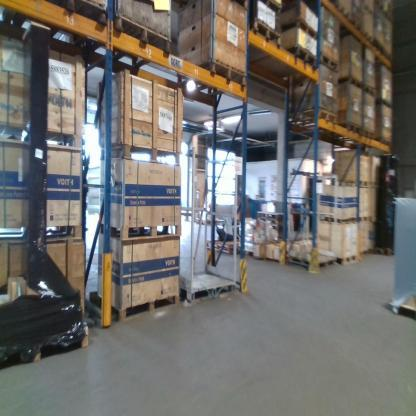pallets: (33, 0, 180, 59), (245, 13, 318, 76), (292, 106, 393, 147), (0, 326, 89, 371), (96, 213, 187, 255), (287, 245, 374, 283), (101, 137, 189, 171), (108, 290, 179, 326), (335, 71, 402, 107), (189, 60, 253, 96), (178, 273, 239, 305), (319, 213, 376, 227), (329, 175, 377, 191)
